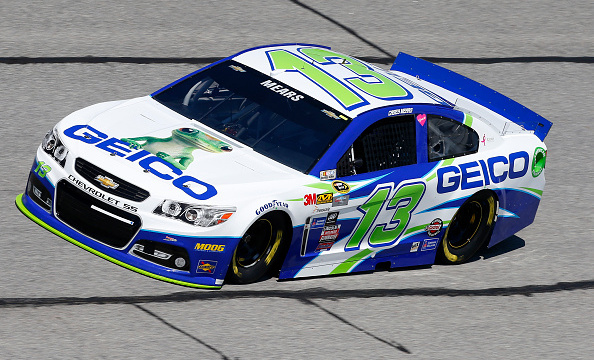Geico: (57, 115, 233, 212), (438, 156, 538, 196)
